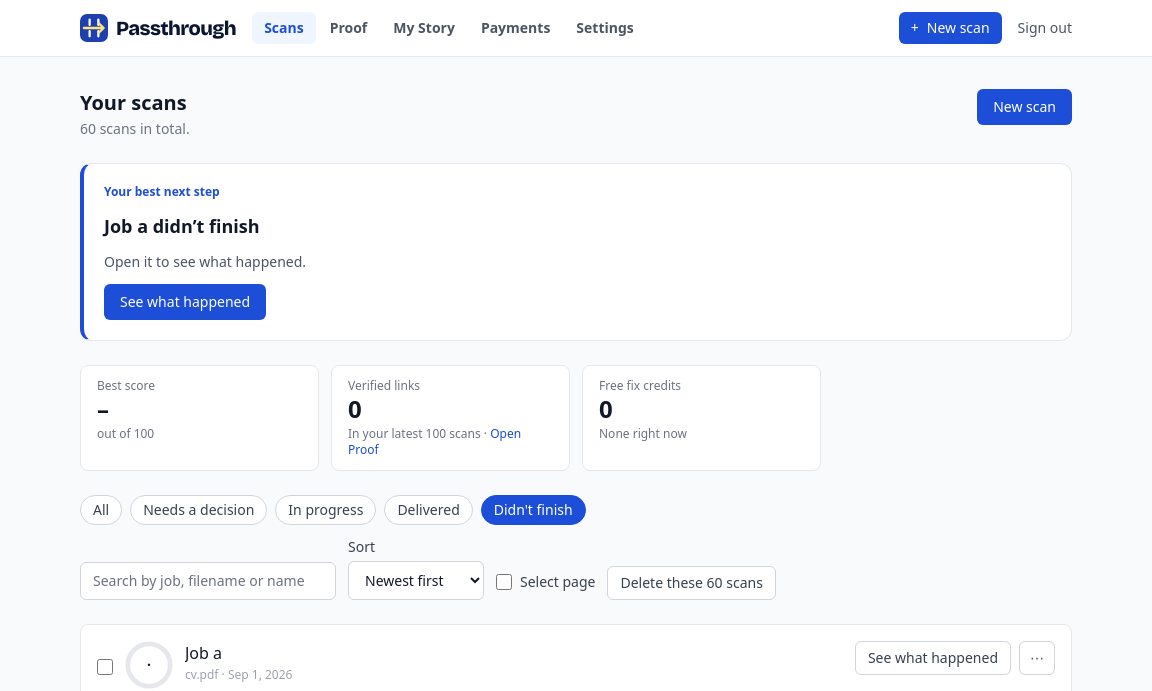
dashboard — delete the scans the filters show › a server refusal or mid-way failure is shown, with how many had already gone
What coordinates should you click on to do the following:
click the button "Delete these 60 scans"
I would click on:
 (692, 583)
Its box is [608,566,776,600].
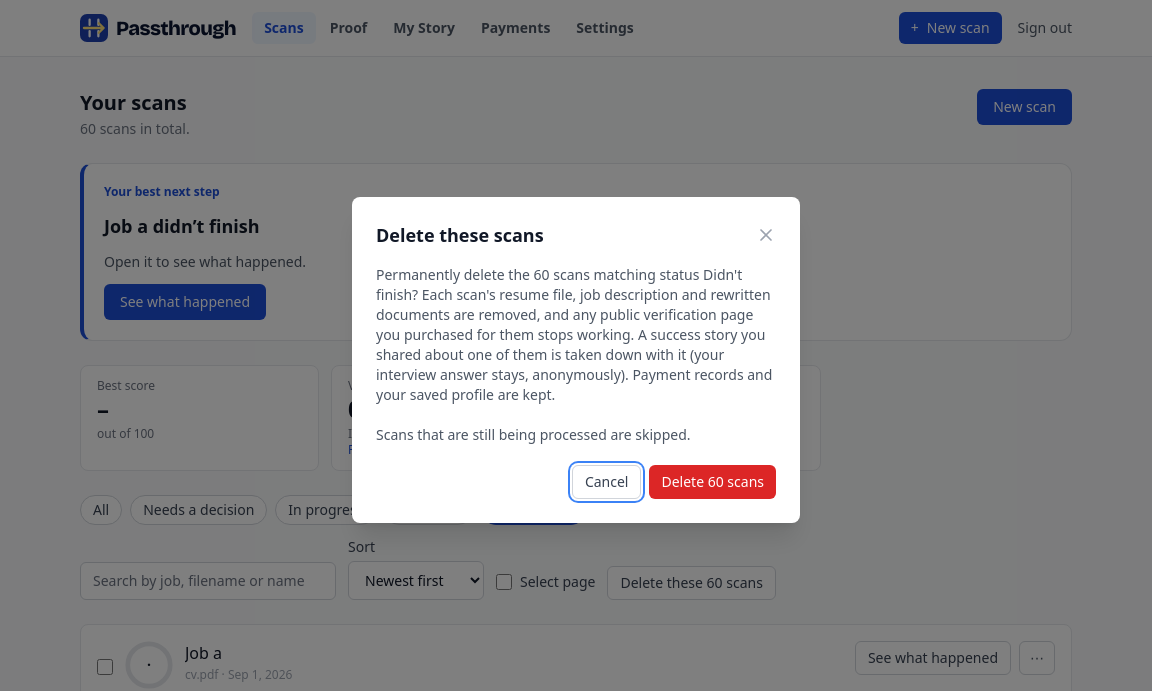
What coordinates should you click on to do the following:
click the button "Delete 60 scans"
I would click on:
 (713, 482)
Its box is [650,465,776,499].
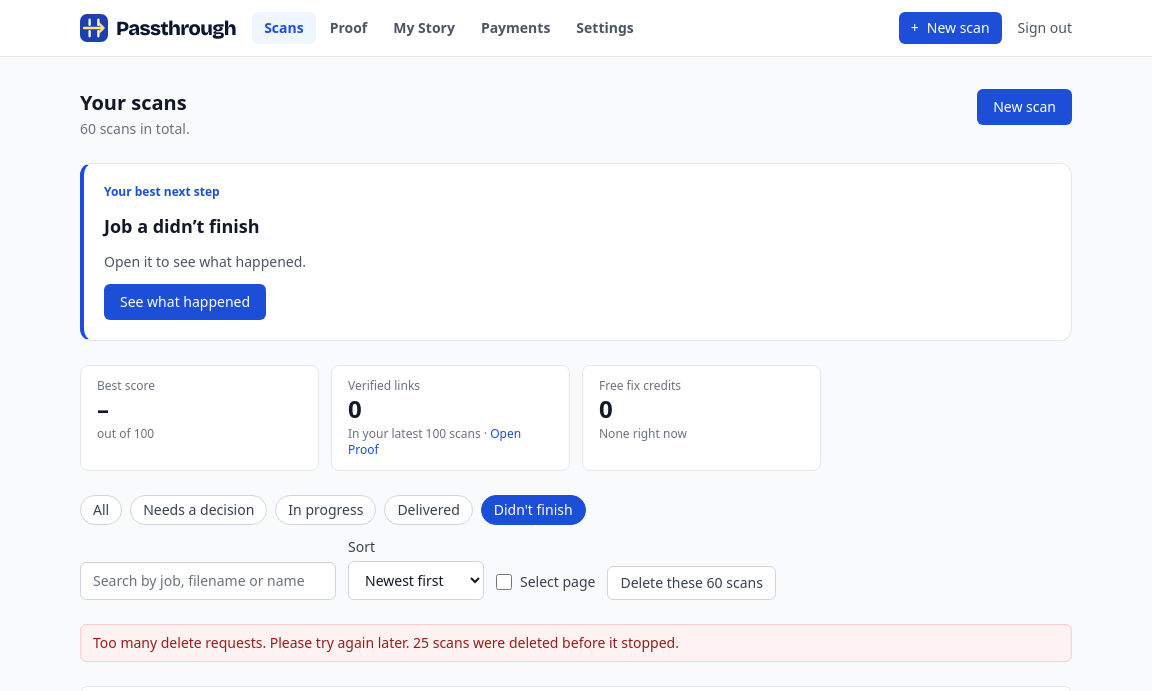
Expected: the text "Too many delete requests" shows "25 scans were deleted before it stopped.", [93,633,679,652]
